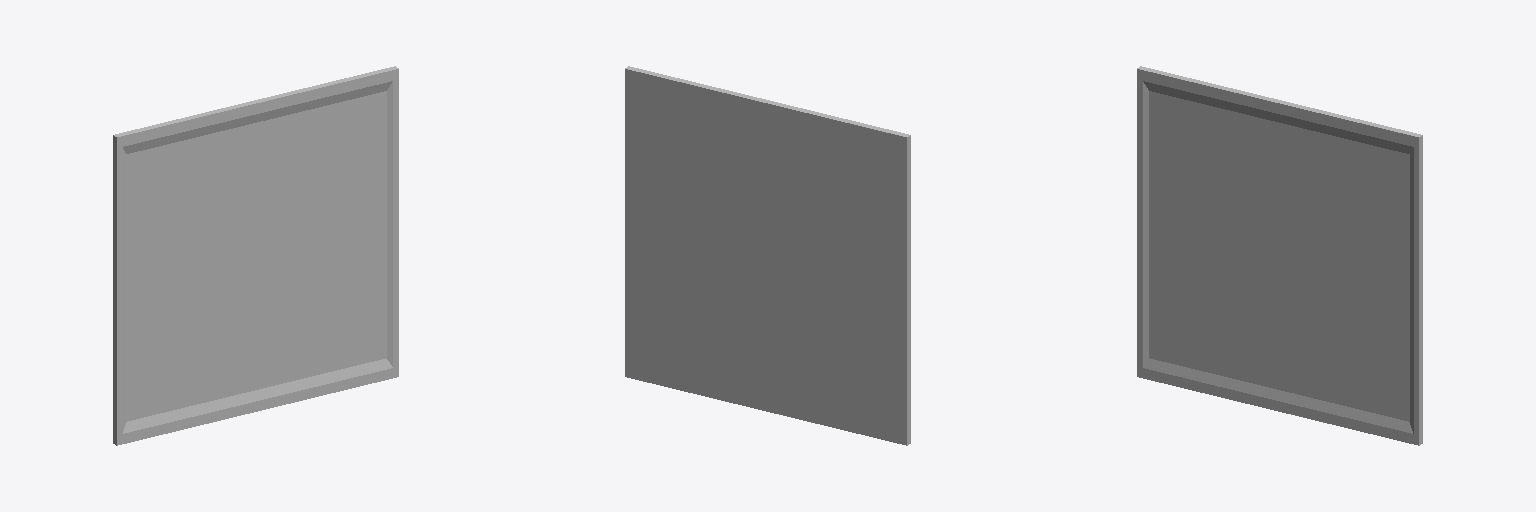
3 renders of one model, left to right at view 1: azimuth 30°, elevation 25°; view 2: azimuth 150°, elevation 25°; view 3: azimuth 330°, elevation 25°, orthographic.
Visible parts, largest first — view 1: Front_Bevel; view 2: Front_Bevel; view 3: Front_Bevel.
Part boxes in pixels (left/top/right/bottom): Front_Bevel: left=113, top=66, right=398, bottom=445; Front_Bevel: left=625, top=66, right=910, bottom=445; Front_Bevel: left=1137, top=66, right=1422, bottom=445.
Bounding box in the file's own units: 3.31 × 3.45 × 0.0733.